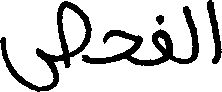ا: (204, 0, 219, 65)
ح: (100, 27, 141, 65)
ص: (0, 0, 91, 90)
ف: (150, 13, 173, 67)
ل: (180, 4, 199, 64)
